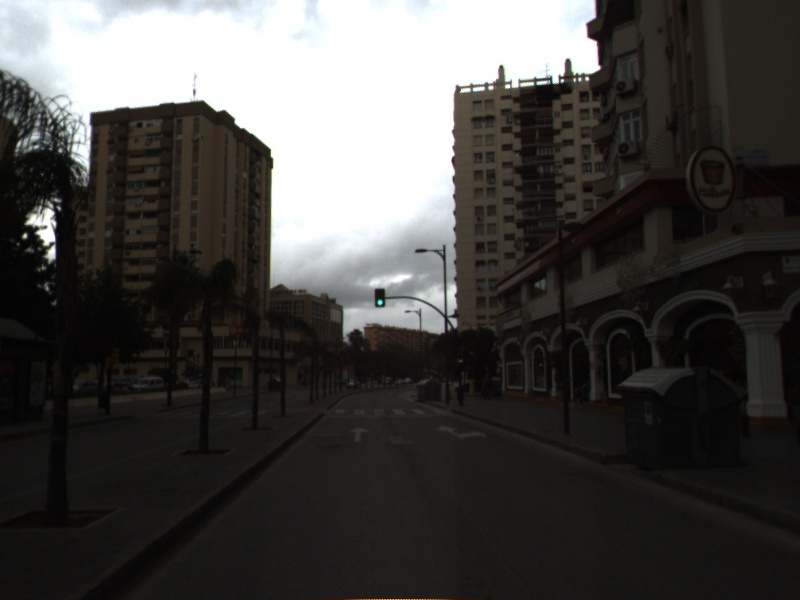STRAIGHT: (347, 425, 372, 444)
STRAIGHT_RIGHT: (435, 421, 490, 442)
